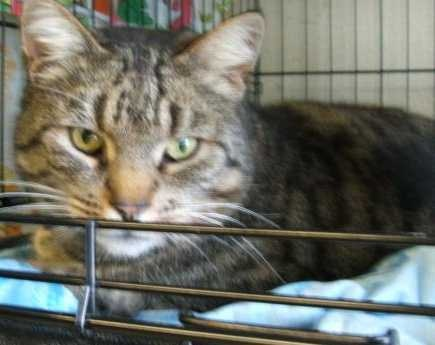Cat: (15, 0, 263, 223)
